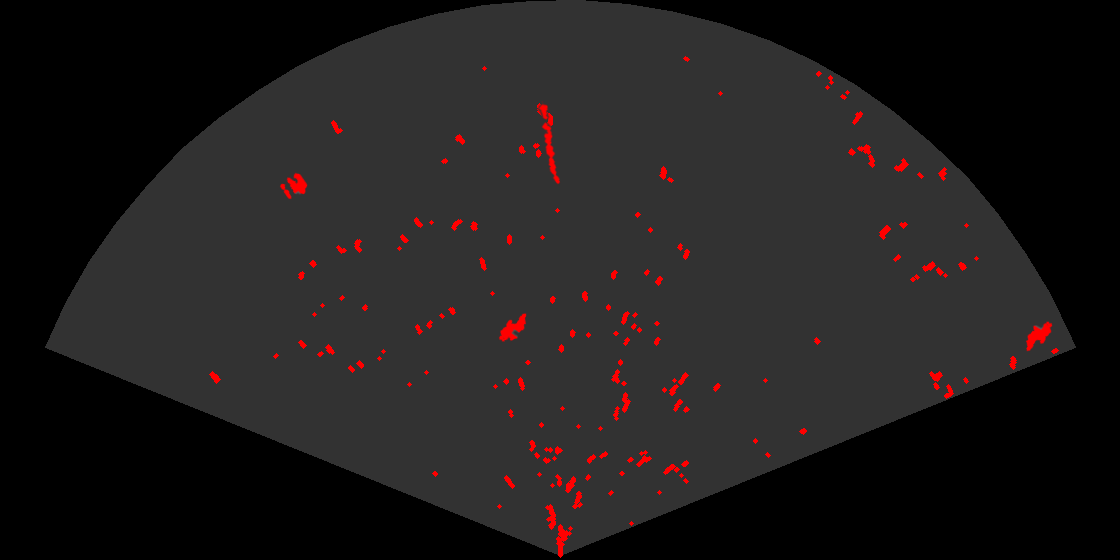AUV: (497, 311, 528, 343), (1024, 320, 1054, 353)
ball: (278, 171, 309, 201)
chain: (537, 101, 562, 186)
